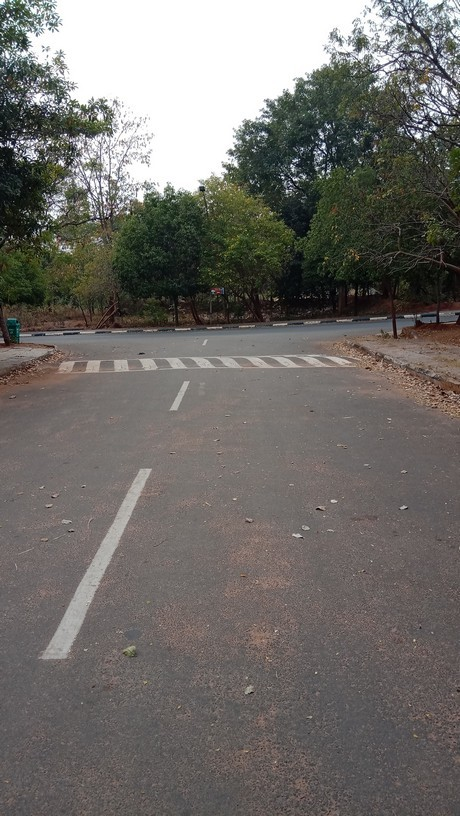bump: (35, 352, 366, 374)
